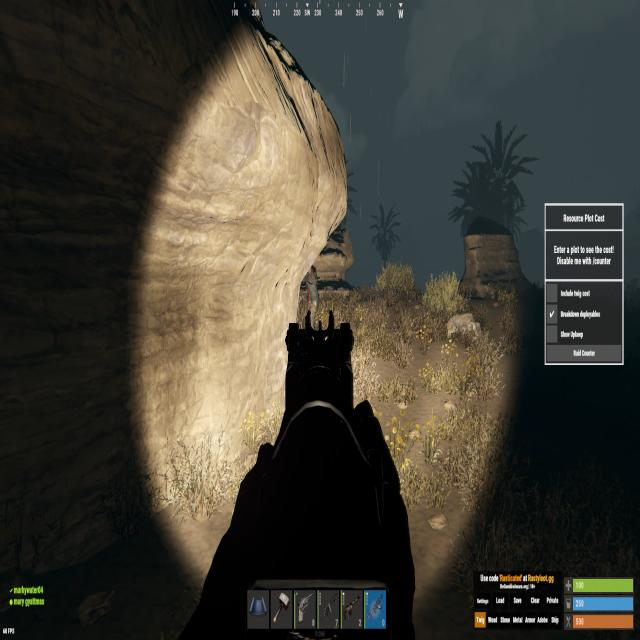Player: (304, 263, 320, 329)
